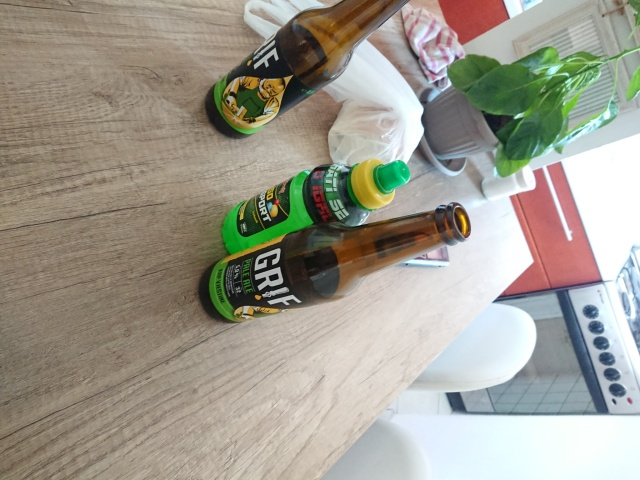Vindi Iso Sport Lemon-Grapefruit 500mL: (218, 155, 414, 263)
